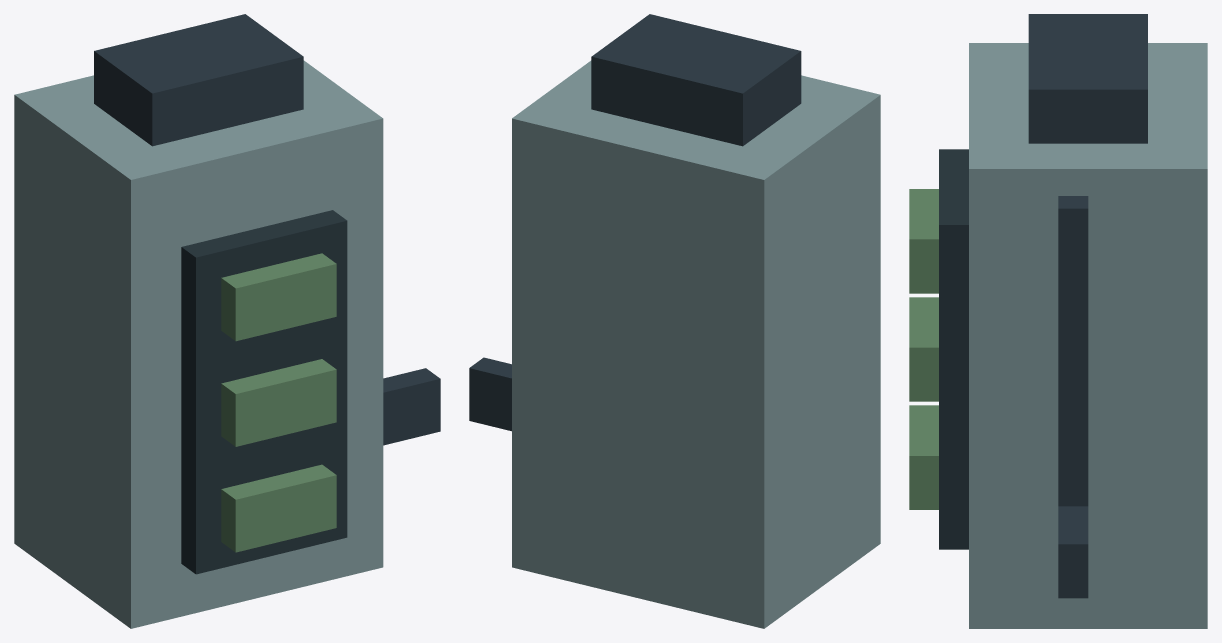
The model's file is iot-18.glb.
3 renders of one model, left to right at view 1: azimuth 30°, elevation 25°; view 2: azimuth 150°, elevation 25°; view 3: azimuth 270°, elevation 25°, orthographic. The views are drawn at different scales.
Visible parts, largest first — view 1: Charging station; view 2: Charging station; view 3: Charging station.
Part boxes in pixels (x1,y1,x2,y2): Charging station: (14,14,440,628); Charging station: (469,14,880,628); Charging station: (909,14,1207,628).
Bounding box in the file's own units: 1.12 × 1.52 × 0.8.
